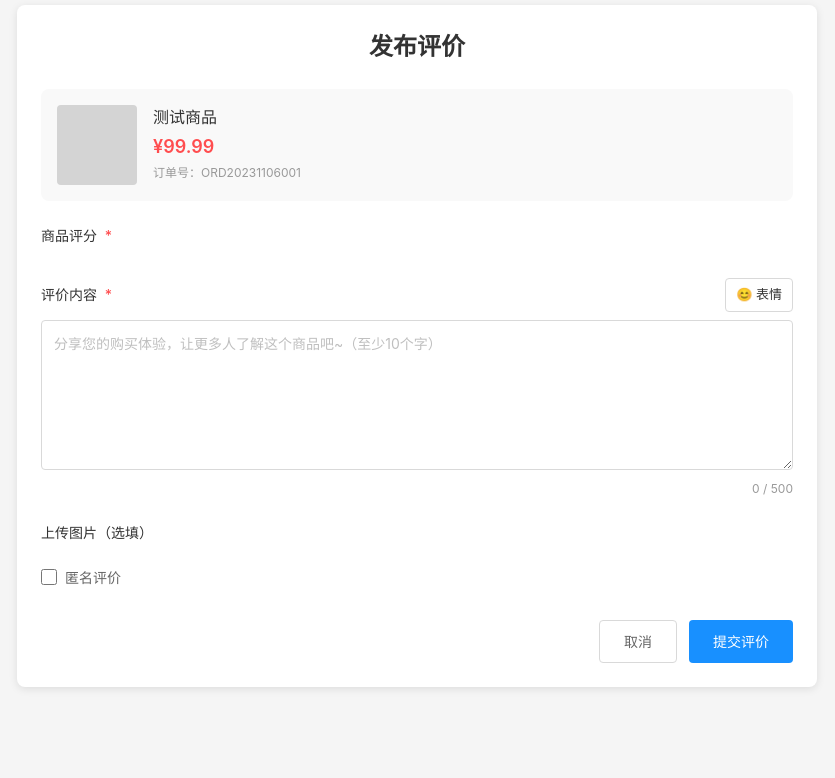
Test: ReviewCreate - 评价发布页 › 未选择星级时提交应该显示错误
Click the button "提交评价".
click(741, 641)  # box [689,620,793,662]
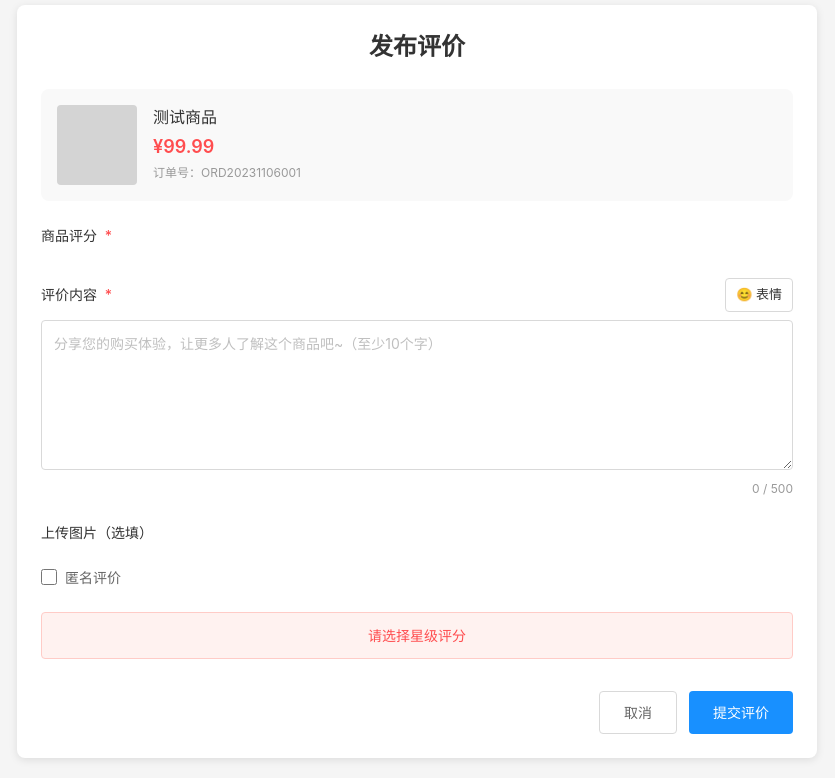
Result: the text "请选择星级评分" is shown at [41,612,793,658]
